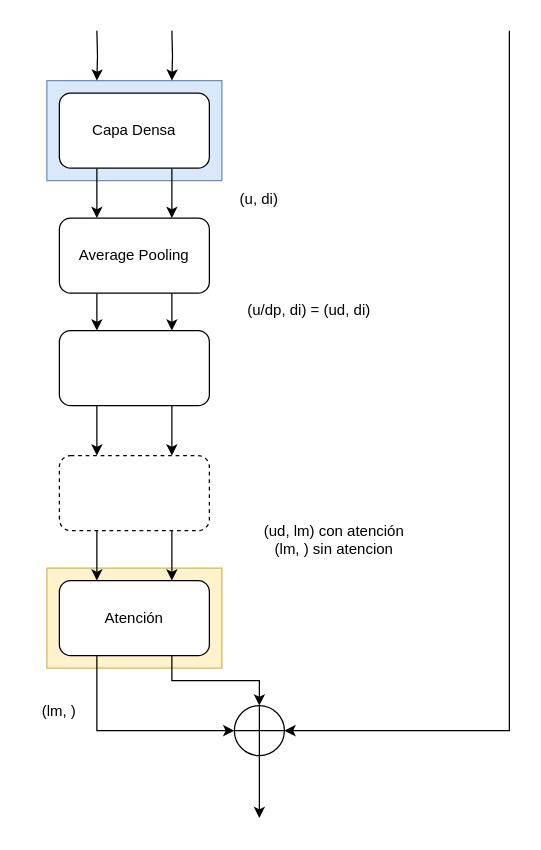
The diagram is 541 pixels wide and 850 high, and some of its shapes have lost their labels. Each missing label, with the centre of its shape:
"LSTM Bidireccional" goes at [133,492].
"Normalización" goes at [133,367].
